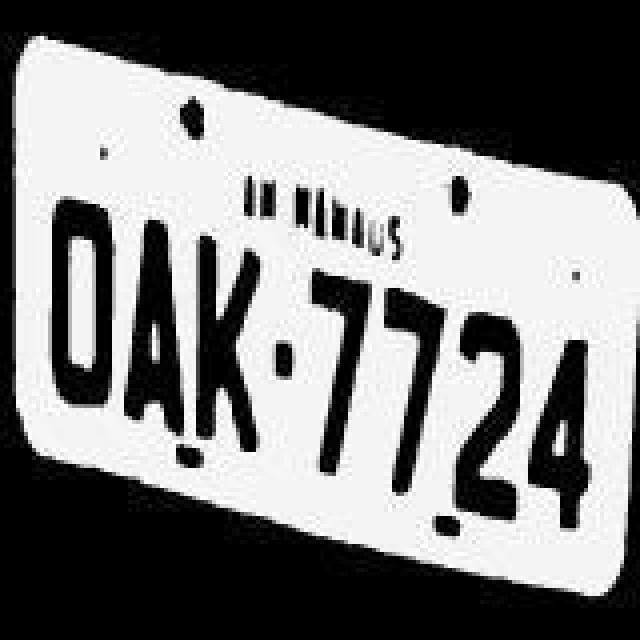2: (452, 304, 524, 528)
4: (524, 334, 596, 546)
7: (378, 284, 454, 516), (298, 266, 374, 486)
A: (116, 208, 188, 448)
K: (192, 224, 264, 456)
O: (46, 188, 114, 412)
